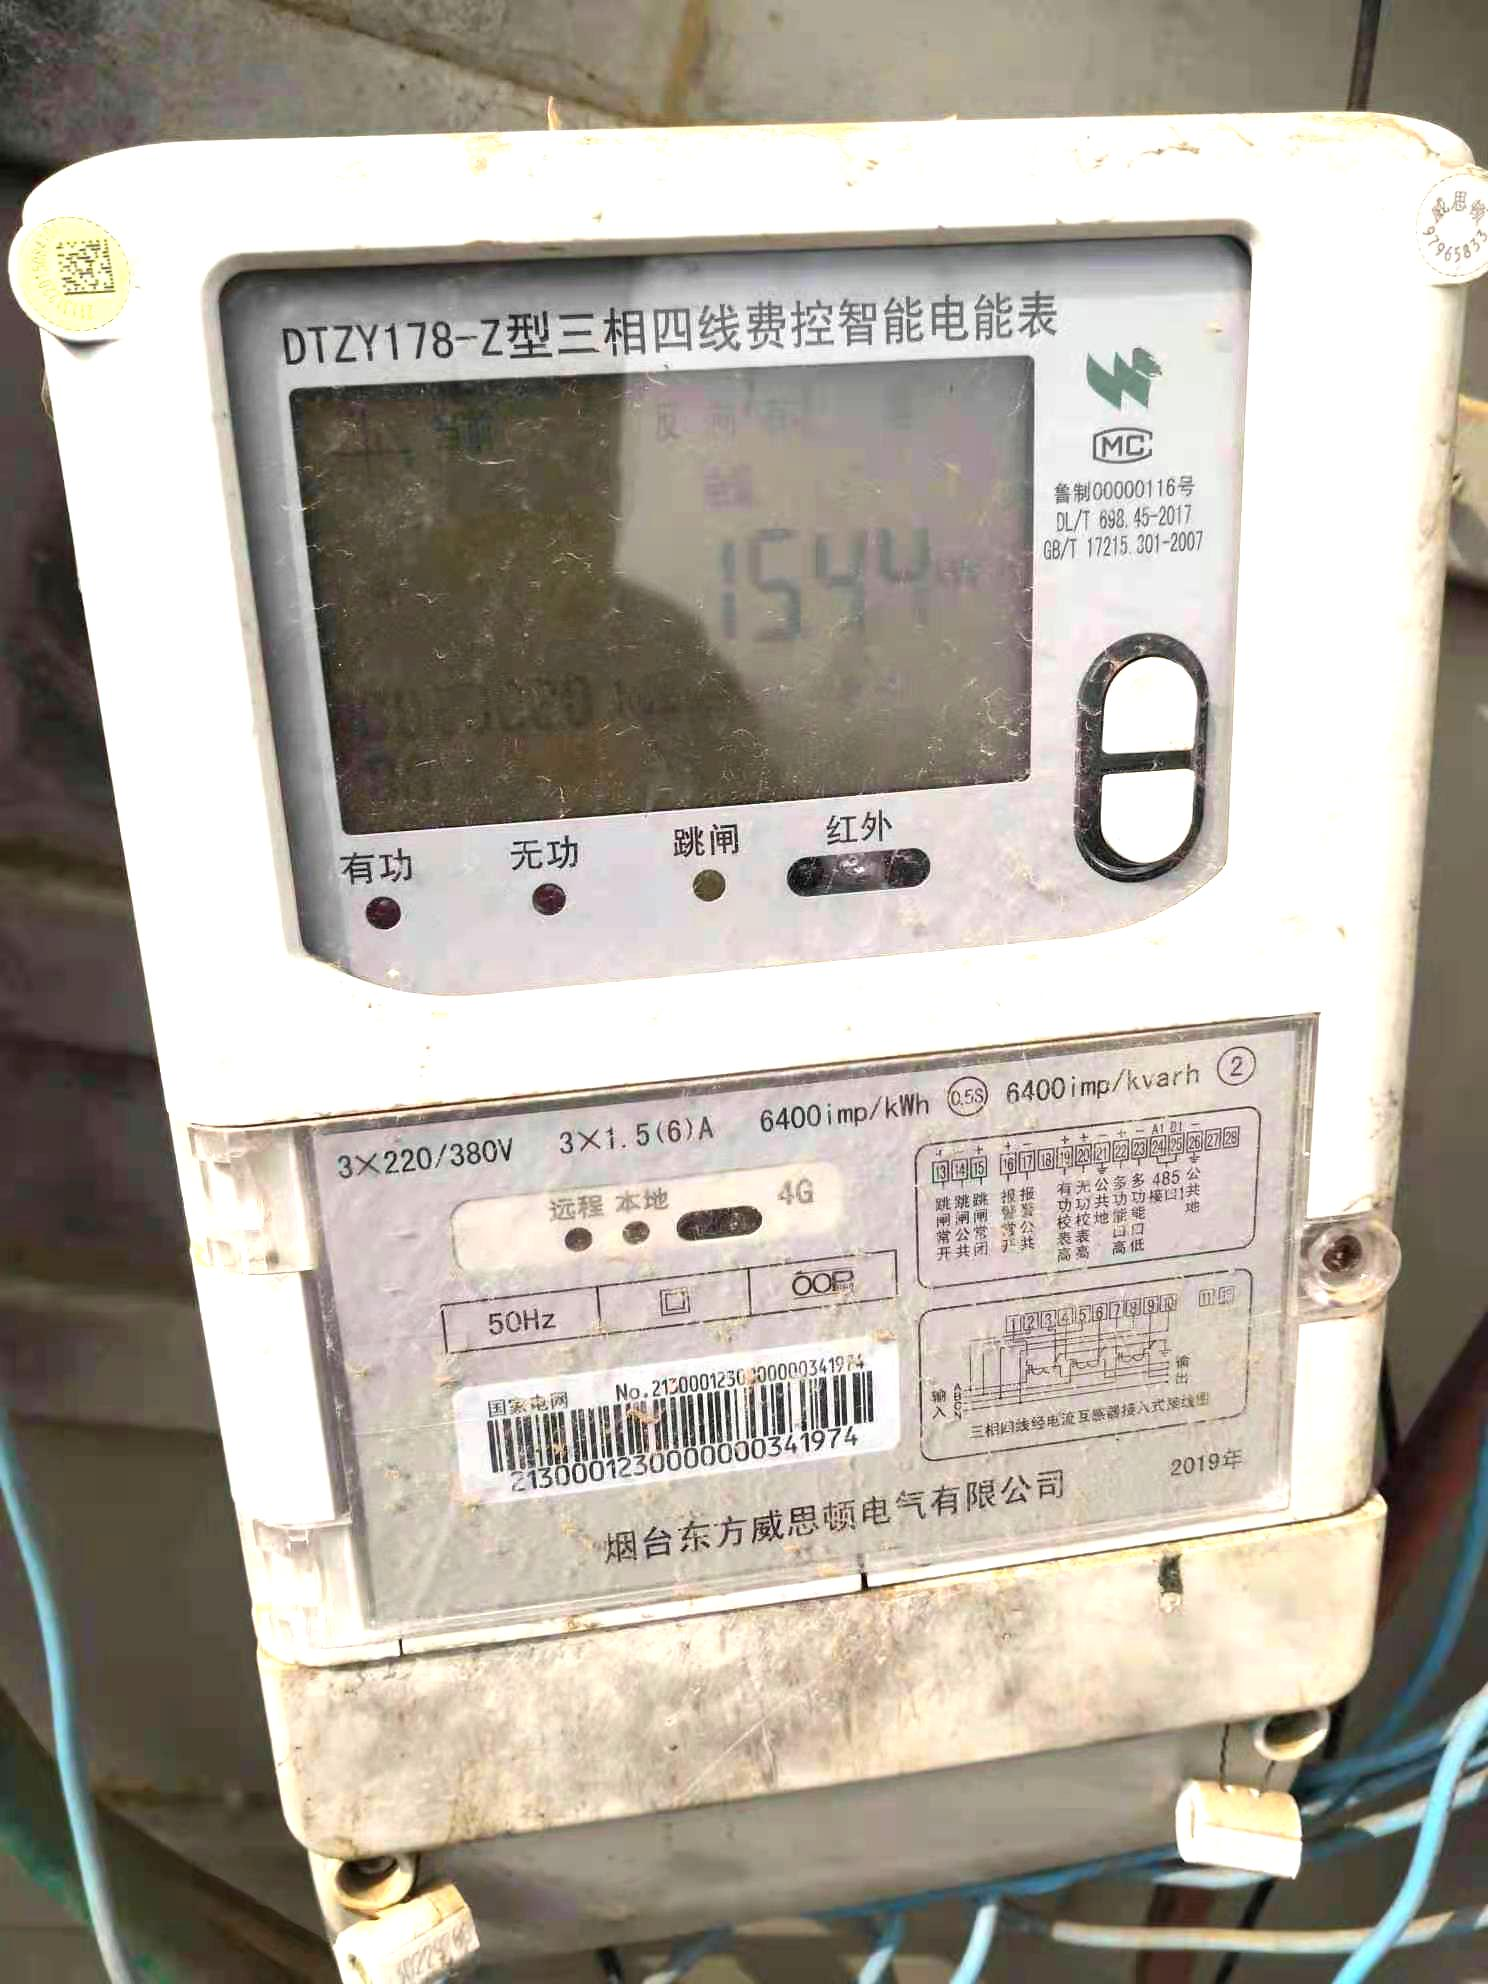digital: (23, 116, 1469, 1834)
